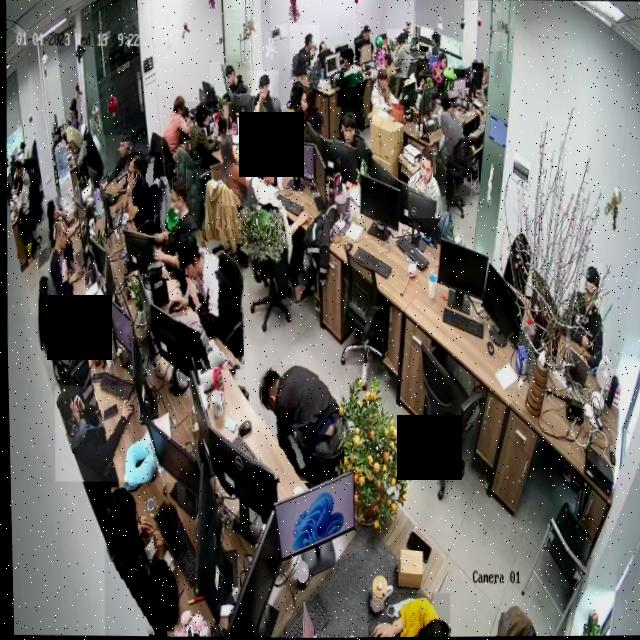person: (99, 481, 178, 636), (251, 364, 343, 485), (243, 147, 313, 302), (172, 228, 244, 371), (51, 385, 132, 482), (147, 177, 199, 281), (42, 215, 86, 328), (562, 264, 603, 370), (113, 151, 162, 234), (363, 592, 447, 638), (431, 90, 472, 178), (216, 134, 257, 207), (406, 147, 446, 219), (184, 101, 220, 170), (14, 159, 37, 259), (41, 195, 81, 248), (161, 95, 192, 163), (330, 108, 370, 159), (367, 70, 405, 121), (333, 44, 362, 108), (208, 62, 249, 106), (288, 25, 319, 83), (99, 134, 130, 189), (290, 87, 323, 134), (246, 70, 279, 117), (386, 29, 416, 78), (418, 27, 442, 66)
